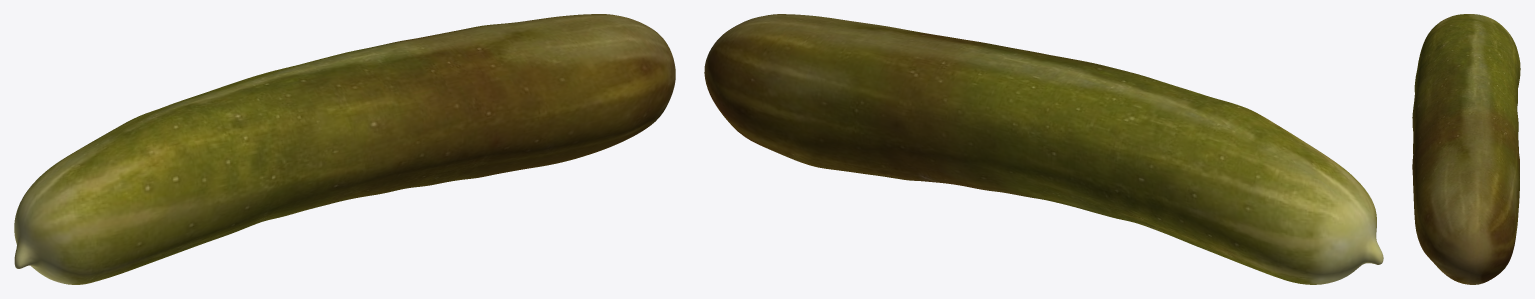
The model's file is PickledCucumberPeel.obj.
3 renders of one model, left to right at view 1: azimuth 30°, elevation 25°; view 2: azimuth 150°, elevation 25°; view 3: azimuth 270°, elevation 25°, orthographic. The views are drawn at different scales.
Visible parts, largest first — view 1: PickledCucumberPeel; view 2: PickledCucumberPeel; view 3: PickledCucumberPeel.
Part boxes in pixels (x1,y1,x2,y2): PickledCucumberPeel: [14, 14, 675, 284]; PickledCucumberPeel: [704, 14, 1383, 284]; PickledCucumberPeel: [1412, 14, 1520, 284].
Size of the model in its own units: 0.0756 by 0.0166 by 0.0146.
Materials: 1 (1 with a texture image).
